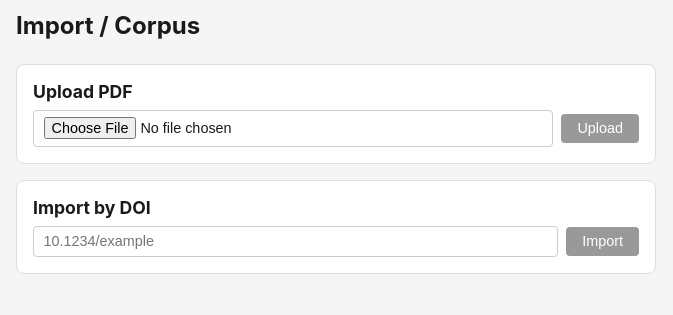
Test case: DoiForm › shows error message on DOI failure
This screenshot has width=673, height=315.
In the field with test id "doi-input": (296, 241) top-left (33, 226), bottom-right (558, 257), type "10.xxx/bad"
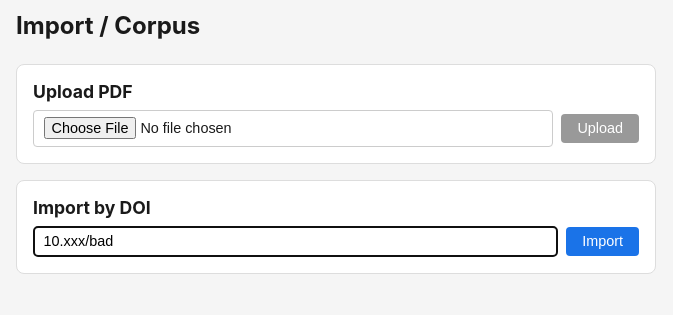
Click the button with test id "doi-btn": (603, 241) top-left (566, 227), bottom-right (639, 256)
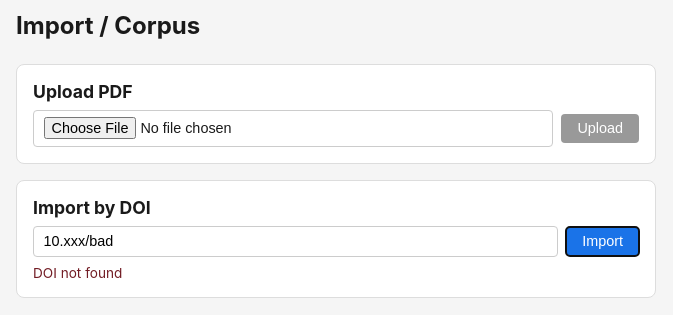
Check: the text with test id "doi-error" reads "DOI not found", box top-left (33, 265), bottom-right (122, 281)
